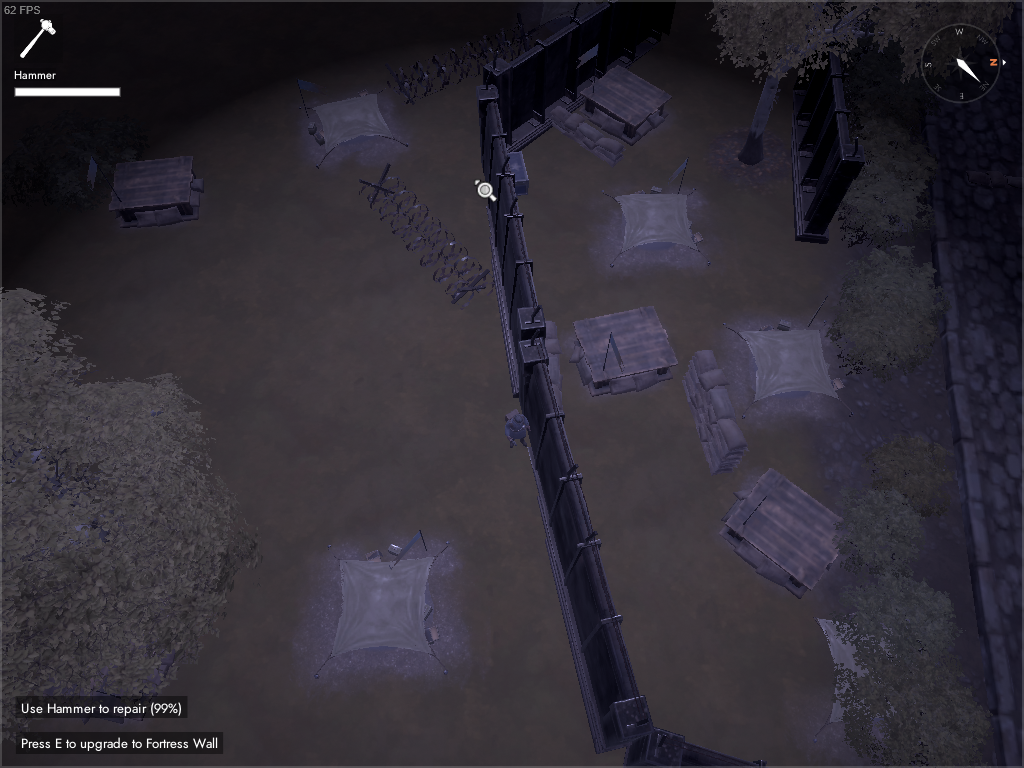fortified_wall: (513, 326, 657, 756), (478, 1, 685, 161), (474, 70, 549, 402), (781, 1, 866, 248), (619, 720, 774, 768)
foxhole: (795, 598, 954, 750), (310, 534, 469, 685), (716, 289, 866, 426), (594, 154, 721, 275), (288, 70, 415, 177), (525, 1, 627, 38)
pillbox: (714, 461, 861, 604), (565, 302, 681, 404), (83, 145, 207, 236), (569, 41, 675, 145)
player: (502, 406, 531, 452)
sandbag: (677, 345, 748, 477), (548, 102, 629, 172), (531, 314, 568, 420)
storage_box: (499, 146, 534, 199)
wire: (355, 160, 494, 311), (382, 20, 542, 108)
